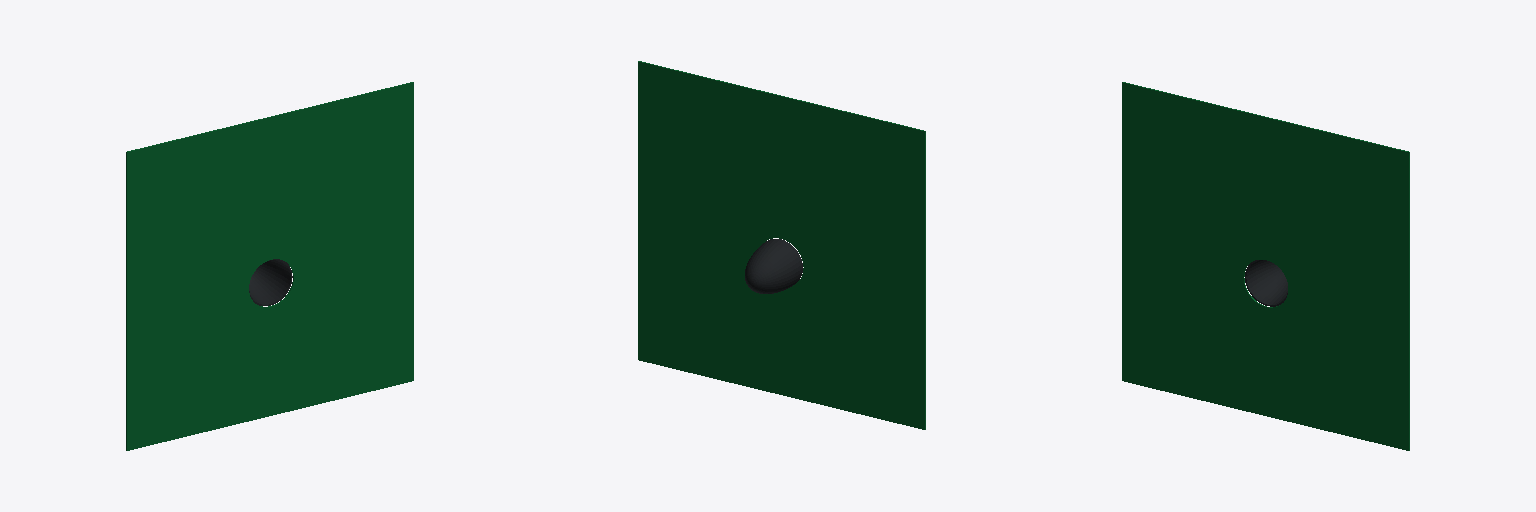
The model's file is hall.obj.
3 renders of one model, left to right at view 1: azimuth 30°, elevation 25°; view 2: azimuth 150°, elevation 25°; view 3: azimuth 330°, elevation 25°, orthographic.
Parts seen in each view (by area): view 1: obj_0; view 2: obj_0; view 3: obj_0.
Boxes of the visible parts, box(x1,y1,x2,y2) form: obj_0: box(126, 82, 413, 450); obj_0: box(638, 61, 925, 429); obj_0: box(1122, 82, 1409, 450).
Size of the model in its own units: 198 by 197 by 35.